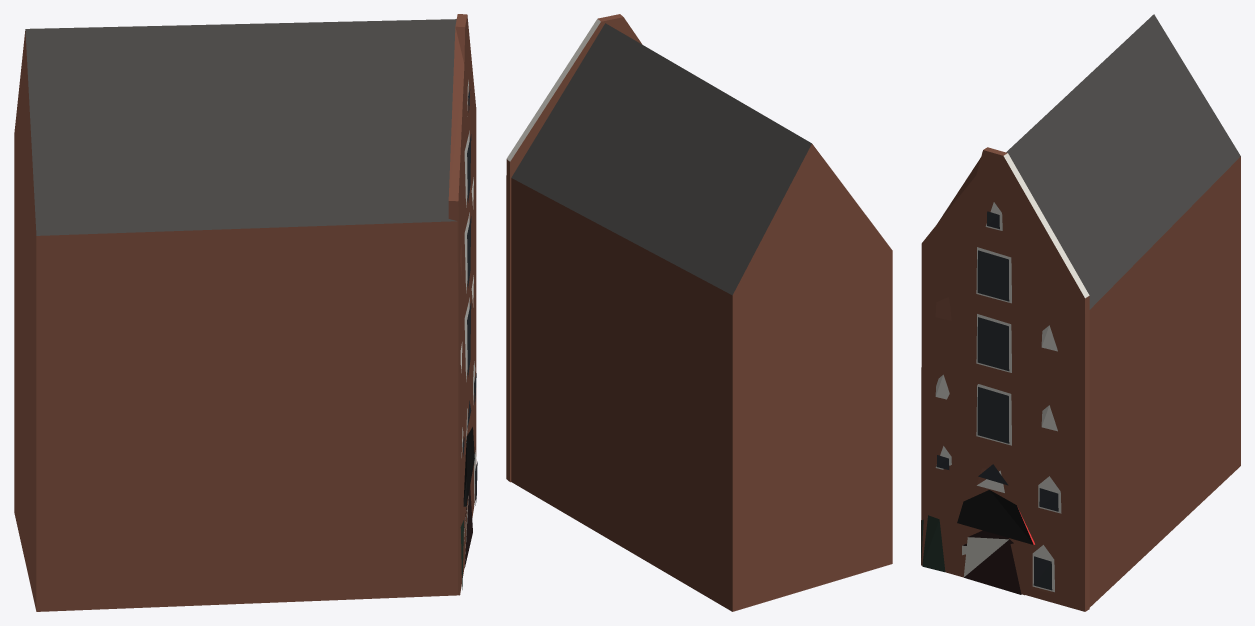
Rendered from erotic-museum.lod2.glb.
The picture shows the model from 3 angles, left to right: view 1: azimuth 30°, elevation 25°; view 2: azimuth 150°, elevation 25°; view 3: azimuth 270°, elevation 25°; orthographic projection. The views are drawn at different scales.
Parts seen in each view (by area): view 1: lod2; view 2: lod2; view 3: lod2.
Part boxes in pixels (bbox=[...]): lod2: bbox=[14, 14, 477, 611]; lod2: bbox=[506, 14, 892, 611]; lod2: bbox=[921, 14, 1240, 611].
Size of the model in its own units: 13.28 by 14.99 by 9.98.
